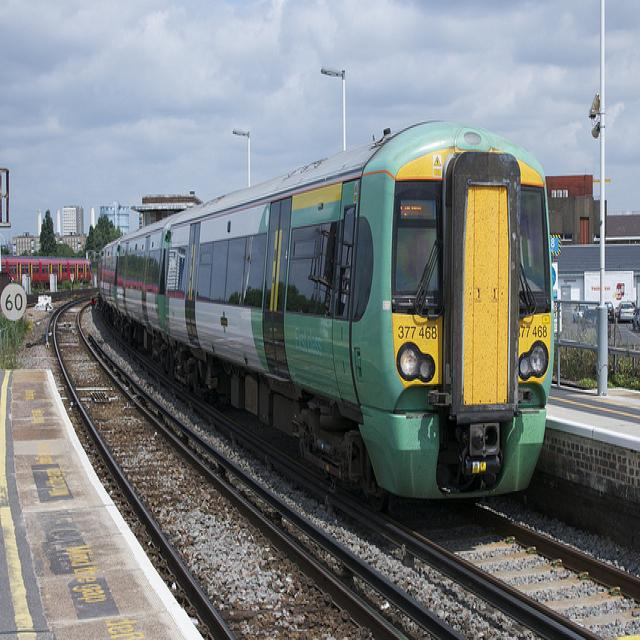Vehicle: (582, 308, 611, 337), (572, 304, 589, 323), (618, 302, 634, 320), (605, 301, 615, 323)
